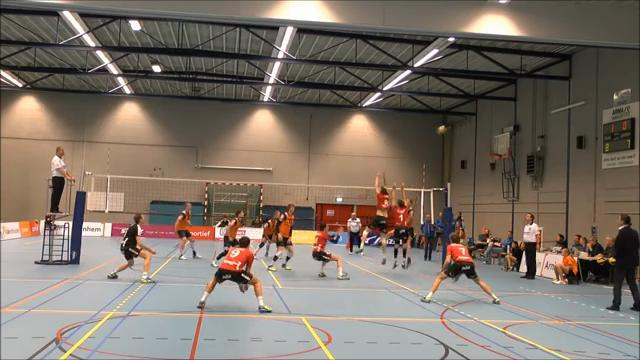Attack: (406, 194, 415, 271)
Block: (351, 167, 391, 266), (391, 176, 416, 273)
Dig: (420, 229, 503, 311)
Player: (197, 236, 271, 312), (107, 214, 155, 282), (312, 223, 348, 279), (211, 210, 243, 266), (268, 204, 294, 270), (175, 202, 200, 259), (255, 211, 279, 257)
ball: (437, 125, 447, 133)
